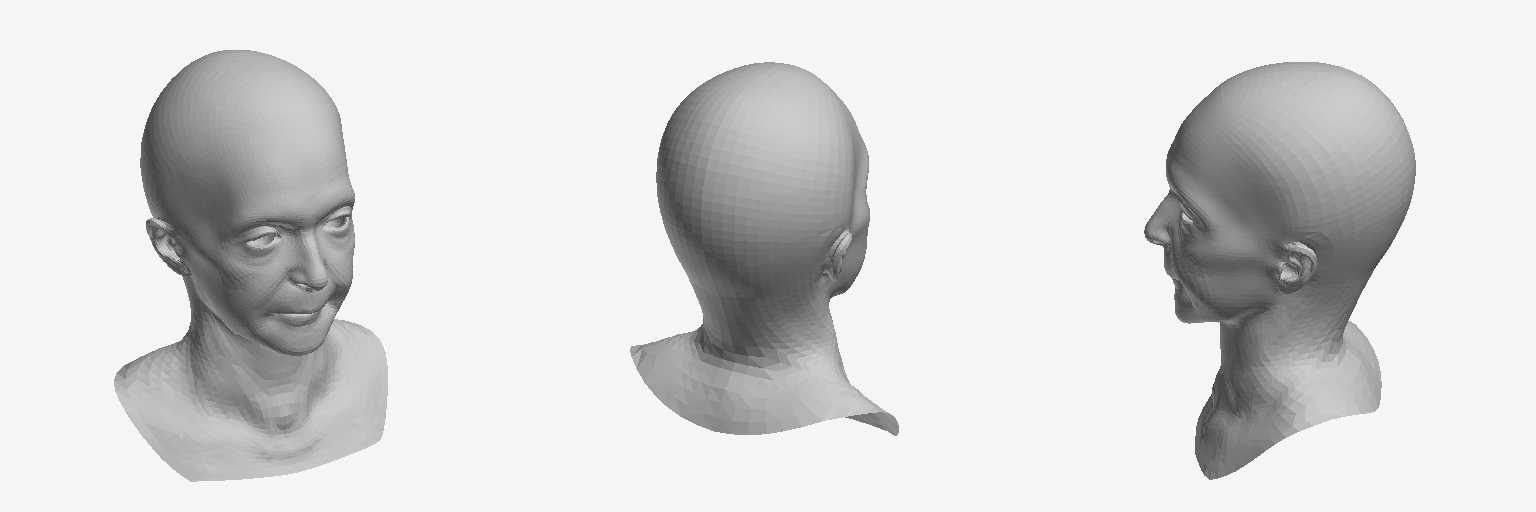
The model's file is result.obj.
The picture shows the model from 3 angles: view 1: azimuth 30°, elevation 25°; view 2: azimuth 150°, elevation 25°; view 3: azimuth 270°, elevation 25°; orthographic projection.
Size of the model in its own units: 0.8768 by 1.21 by 0.8037.